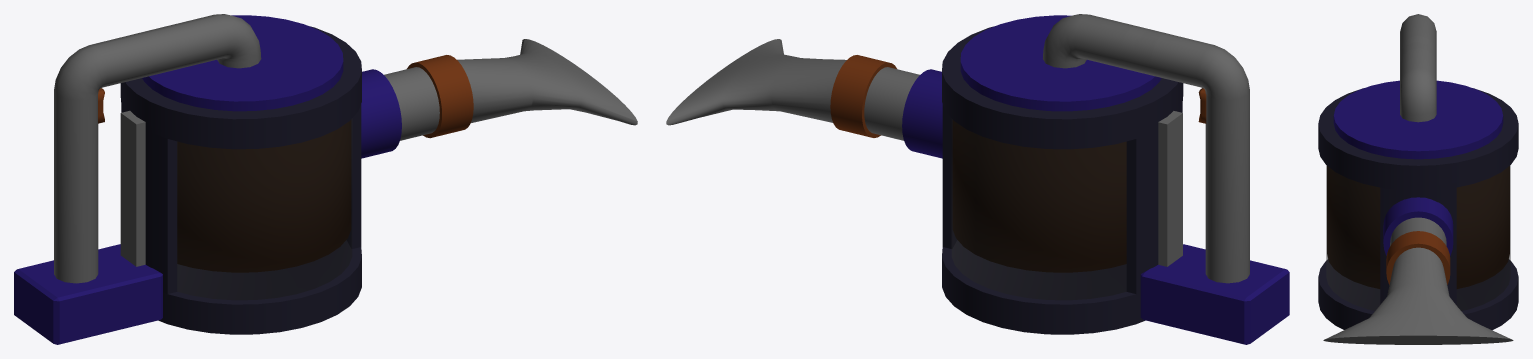
The model's file is Vacuum.fbx.
The picture shows the model from 3 angles, left to right: view 1: azimuth 30°, elevation 25°; view 2: azimuth 150°, elevation 25°; view 3: azimuth 270°, elevation 25°; orthographic projection. The views are drawn at different scales.
Visible parts, largest first — view 1: Clear Bin, Base, Plane, Top Cap, Top, Battery, Spout 4, Dirt 2, Dirt 4, Dirt 3, Dirt 5, Metal Bar (+4 smaller); view 2: Clear Bin, Base, Plane, Top Cap, Top, Battery, Spout 4, Dirt 2, Dirt 4, Dirt 3, Dirt 5, Metal Bar (+4 smaller); view 3: Clear Bin, Top Cap, Spout 4, Base, Top, Plane, Dirt 2, Dirt 4, Dirt 3, Dirt 5, Accessory Mounting Point, Spout 3 (+2 smaller).
Boxes of the visible parts, bbox=[...] form: Clear Bin: bbox=[177, 119, 352, 300]; Base: bbox=[121, 99, 361, 334]; Plane: bbox=[54, 14, 261, 283]; Top Cap: bbox=[142, 15, 343, 111]; Top: bbox=[120, 26, 361, 149]; Battery: bbox=[14, 244, 162, 344]; Spout 4: bbox=[457, 39, 637, 125]; Dirt 2: bbox=[177, 203, 351, 272]; Dirt 4: bbox=[177, 148, 351, 217]; Dirt 3: bbox=[177, 176, 351, 245]; Dirt 5: bbox=[177, 122, 351, 190]; Metal Bar: bbox=[120, 110, 145, 266]; Clear Bin: bbox=[951, 119, 1126, 300]; Base: bbox=[942, 99, 1182, 334]; Plane: bbox=[1043, 14, 1249, 283]; Top Cap: bbox=[960, 15, 1161, 111]; Top: bbox=[942, 26, 1183, 149]; Battery: bbox=[1140, 244, 1289, 344]; Spout 4: bbox=[666, 39, 846, 125]; Dirt 2: bbox=[952, 203, 1126, 272]; Dirt 4: bbox=[952, 148, 1126, 217]; Dirt 3: bbox=[952, 176, 1126, 245]; Dirt 5: bbox=[952, 121, 1126, 190]; Metal Bar: bbox=[1158, 111, 1182, 266]; Clear Bin: bbox=[1326, 165, 1510, 310]; Top Cap: bbox=[1333, 80, 1503, 159]; Spout 4: bbox=[1323, 247, 1513, 344]; Base: bbox=[1318, 182, 1518, 330]; Top: bbox=[1318, 88, 1518, 190]; Plane: bbox=[1400, 14, 1436, 122]; Dirt 2: bbox=[1327, 232, 1509, 288]; Dirt 4: bbox=[1327, 187, 1509, 243]; Dirt 3: bbox=[1327, 210, 1509, 266]; Dirt 5: bbox=[1327, 166, 1509, 221]; Accessory Mounting Point: bbox=[1383, 197, 1453, 255]; Spout 3: bbox=[1386, 231, 1450, 284].
Size of the model in its own units: 573 by 271 by 217.
